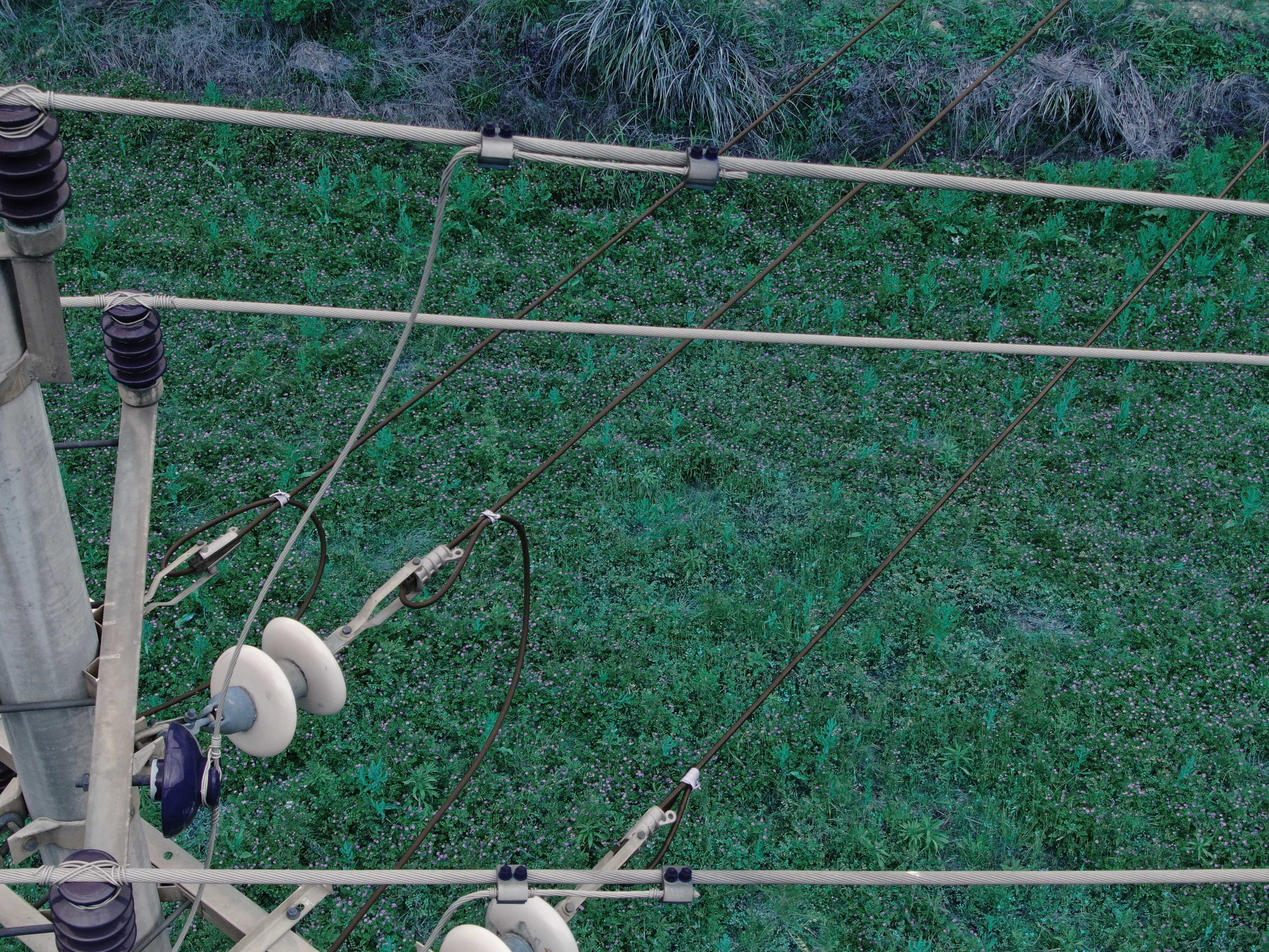severe_soiling_no_discharge_whole: (441, 885, 581, 952)
